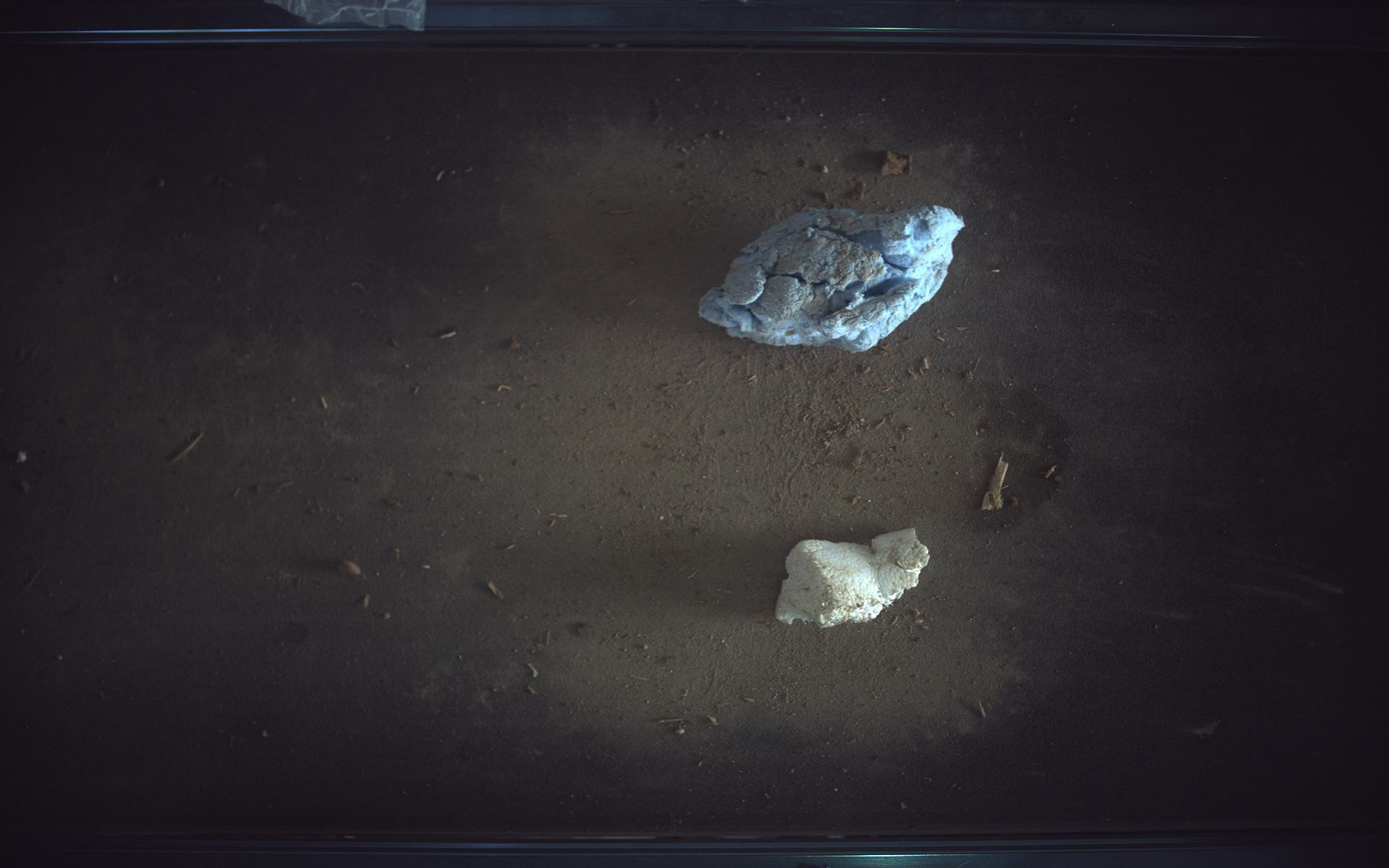foam: (700, 205, 966, 352), (777, 529, 931, 628)
